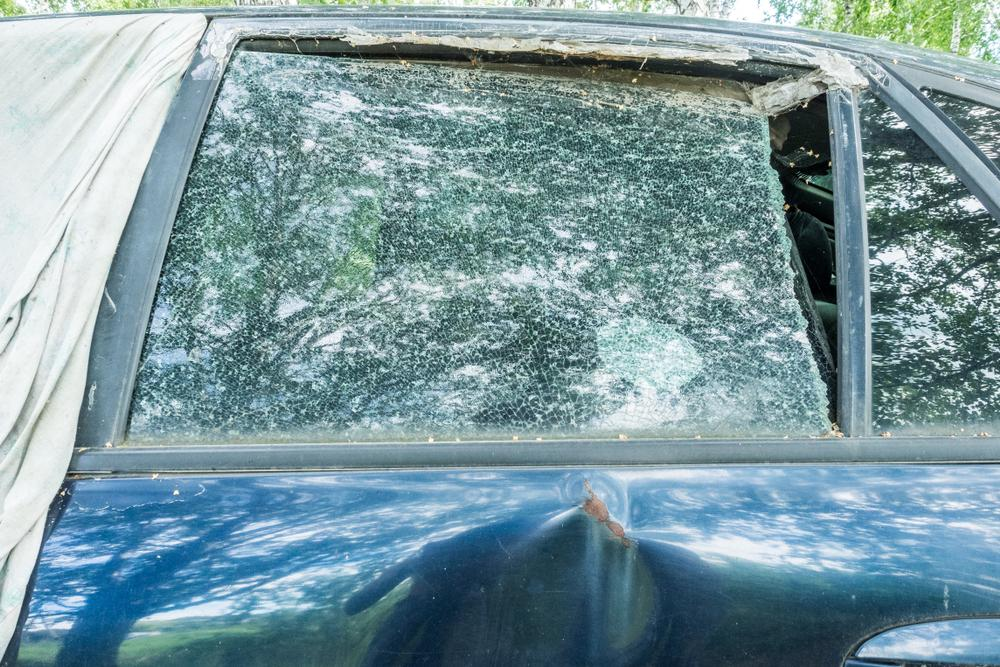dent: (437, 473, 667, 667)
glass shatter: (124, 48, 839, 442)
